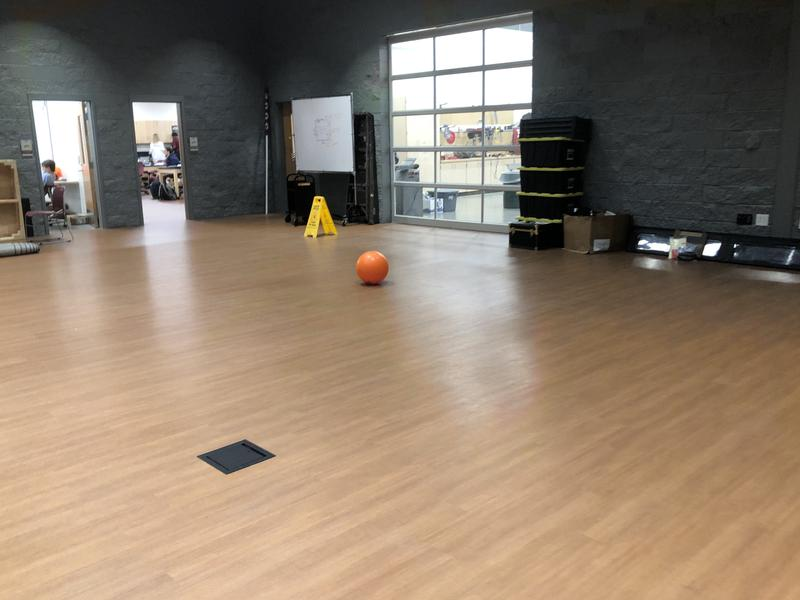ball: (356, 251, 388, 285)
